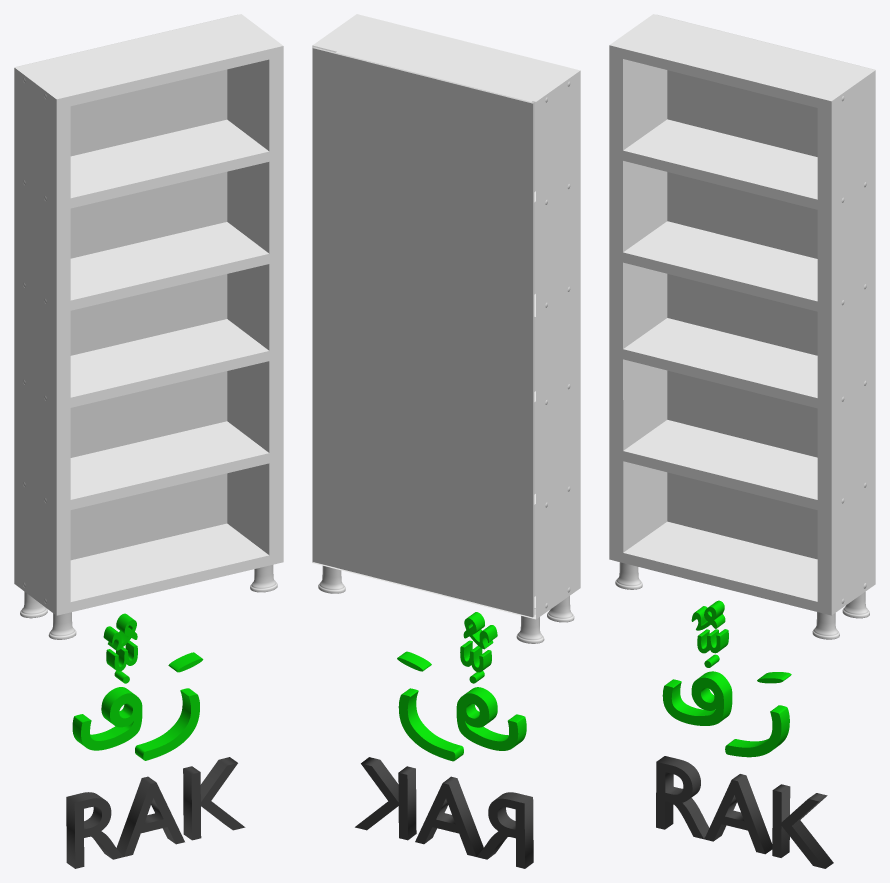
Rendered from kitaplık.fbx.
3 views of the same model, side by side, from view 1: azimuth 30°, elevation 25°; view 2: azimuth 150°, elevation 25°; view 3: azimuth 330°, elevation 25° (orthographic).
Parts seen in each view (by area): view 1: Cube, Plane, Teks, Text, Text.002, Text.003, Cylinder.001, Cylinder.002; view 2: Plane, Cube, Teks, Text, Text.002, Text.003, Cylinder.003, Cylinder; view 3: Cube, Plane, Teks, Text, Text.002, Text.003, Cylinder.001, Cylinder.002.
Part boxes in pixels (x1,y1,x2,y2): Cube: [14, 14, 283, 615]; Plane: [15, 14, 237, 560]; Teks: [66, 757, 245, 868]; Text: [72, 671, 199, 760]; Text.002: [103, 613, 137, 650]; Text.003: [106, 640, 137, 671]; Cylinder.001: [250, 565, 277, 592]; Cylinder.002: [48, 612, 76, 639]; Plane: [312, 47, 534, 617]; Cube: [312, 14, 580, 619]; Teks: [355, 757, 533, 868]; Text: [398, 671, 526, 761]; Text.002: [463, 612, 497, 649]; Text.003: [460, 640, 491, 672]; Cylinder.003: [516, 608, 544, 643]; Cylinder: [318, 566, 345, 593]; Cube: [609, 14, 875, 615]; Plane: [657, 14, 874, 559]; Teks: [656, 756, 833, 868]; Text: [662, 654, 789, 757]; Text.002: [691, 600, 725, 630]; Text.003: [697, 629, 728, 653]; Cylinder.001: [812, 612, 839, 639]; Cylinder.002: [615, 562, 642, 589].
Bounding box in the file's own units: 308 × 1022 × 109.
